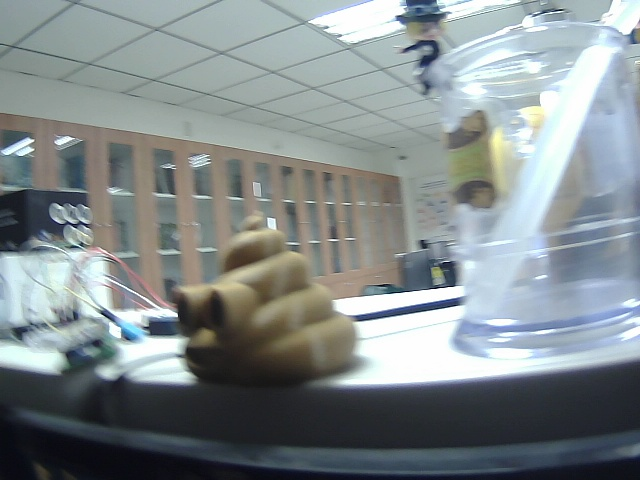shit: (157, 202, 361, 400)
